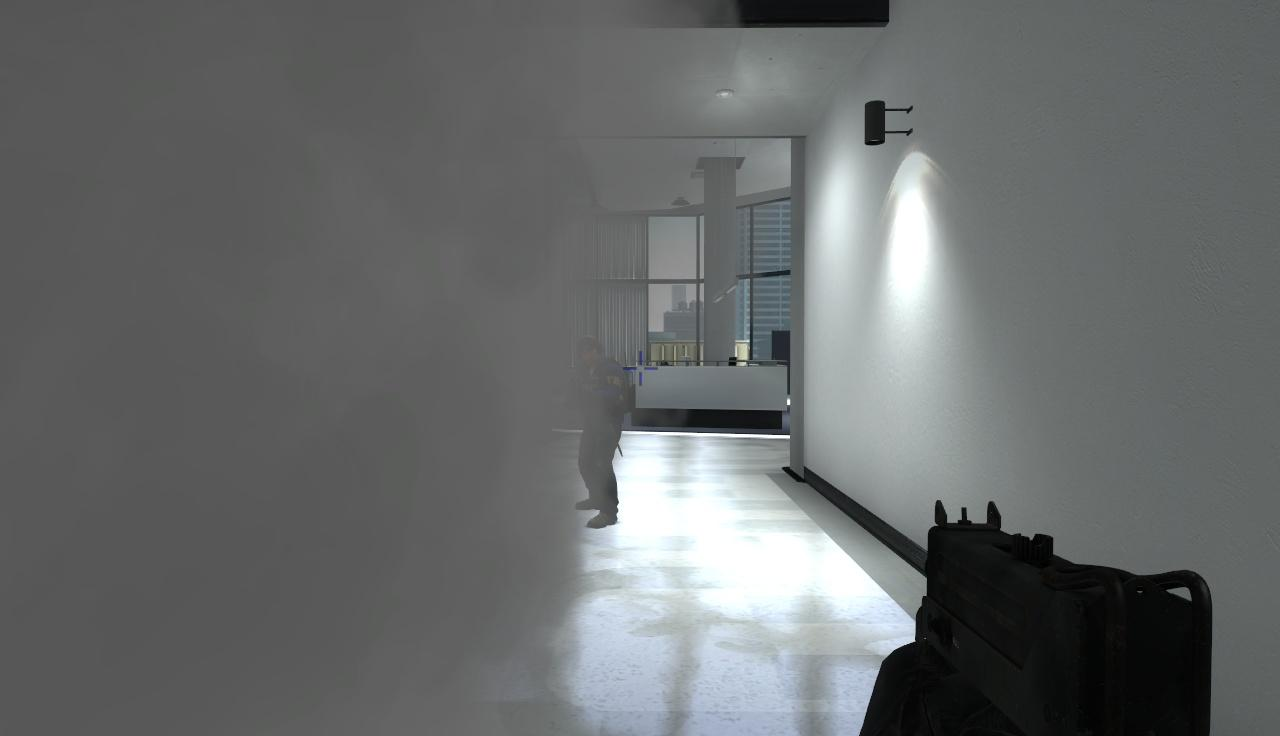ct: (569, 334, 632, 534)
cthead: (577, 337, 603, 366)
rifle: (908, 490, 1227, 736)
